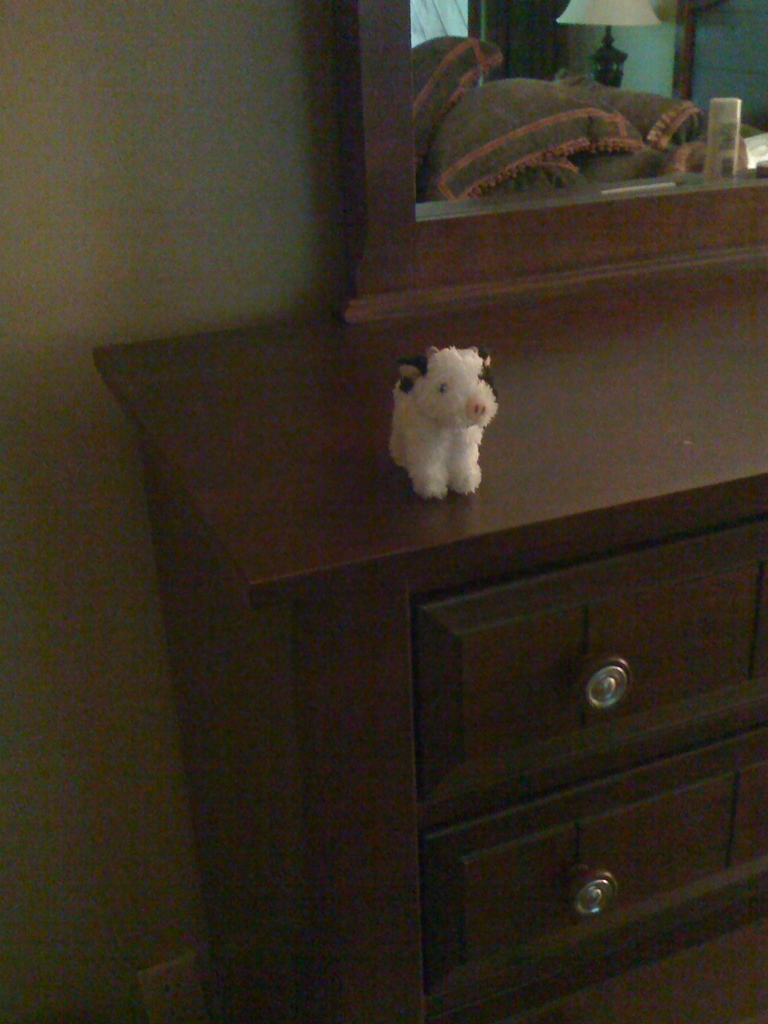cabinet door: (431, 784, 743, 944), (431, 594, 755, 744)
handle: (565, 640, 633, 725), (568, 863, 610, 926)
